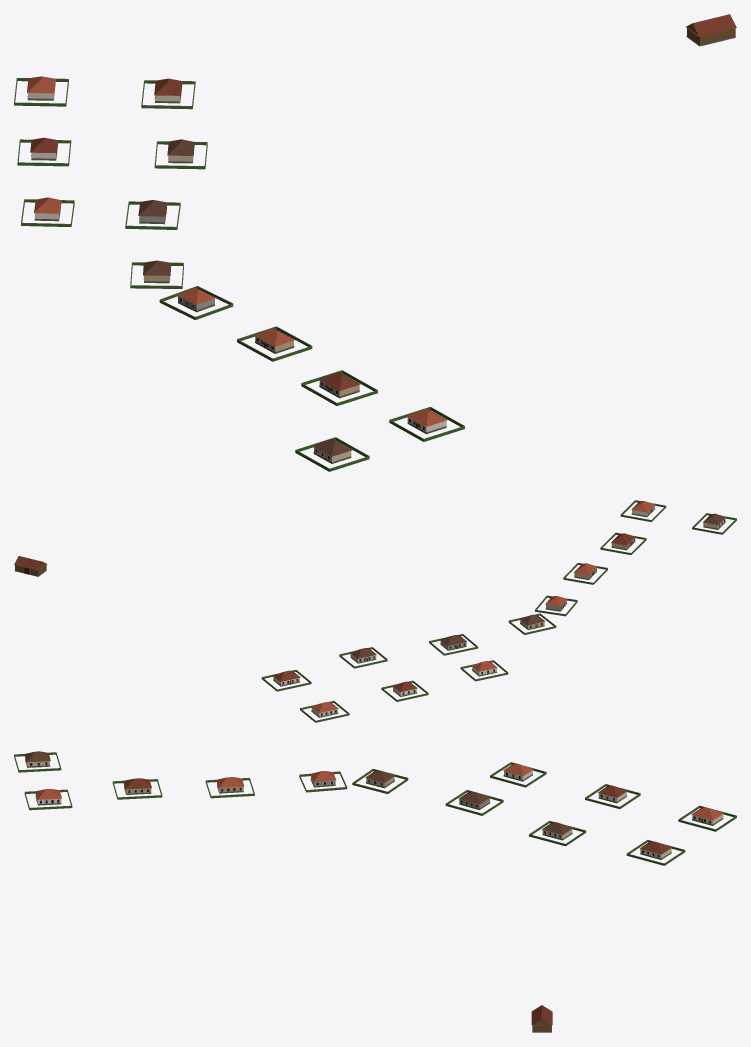
Rendered from Budynki_3_3.fbx.
The picture shows the model from 3 angles, top to bottom: view 1: azimuth 30°, elevation 25°; view 2: azimuth 150°, elevation 25°; view 3: azimuth 270°, elevation 25°; orthographic projection. The views are drawn at different scales.
Visible parts, largest first — view 1: Stodola, Willa_3; view 2: Stodola; view 3: Stodola.
Boxes of the visible parts, x1,y1,x2,y2 form: Stodola: (686, 14, 736, 46); Willa_3: (318, 372, 360, 398); Stodola: (14, 556, 47, 576); Stodola: (531, 1005, 552, 1032).
Size of the model in its own units: 338 by 8 by 371.
